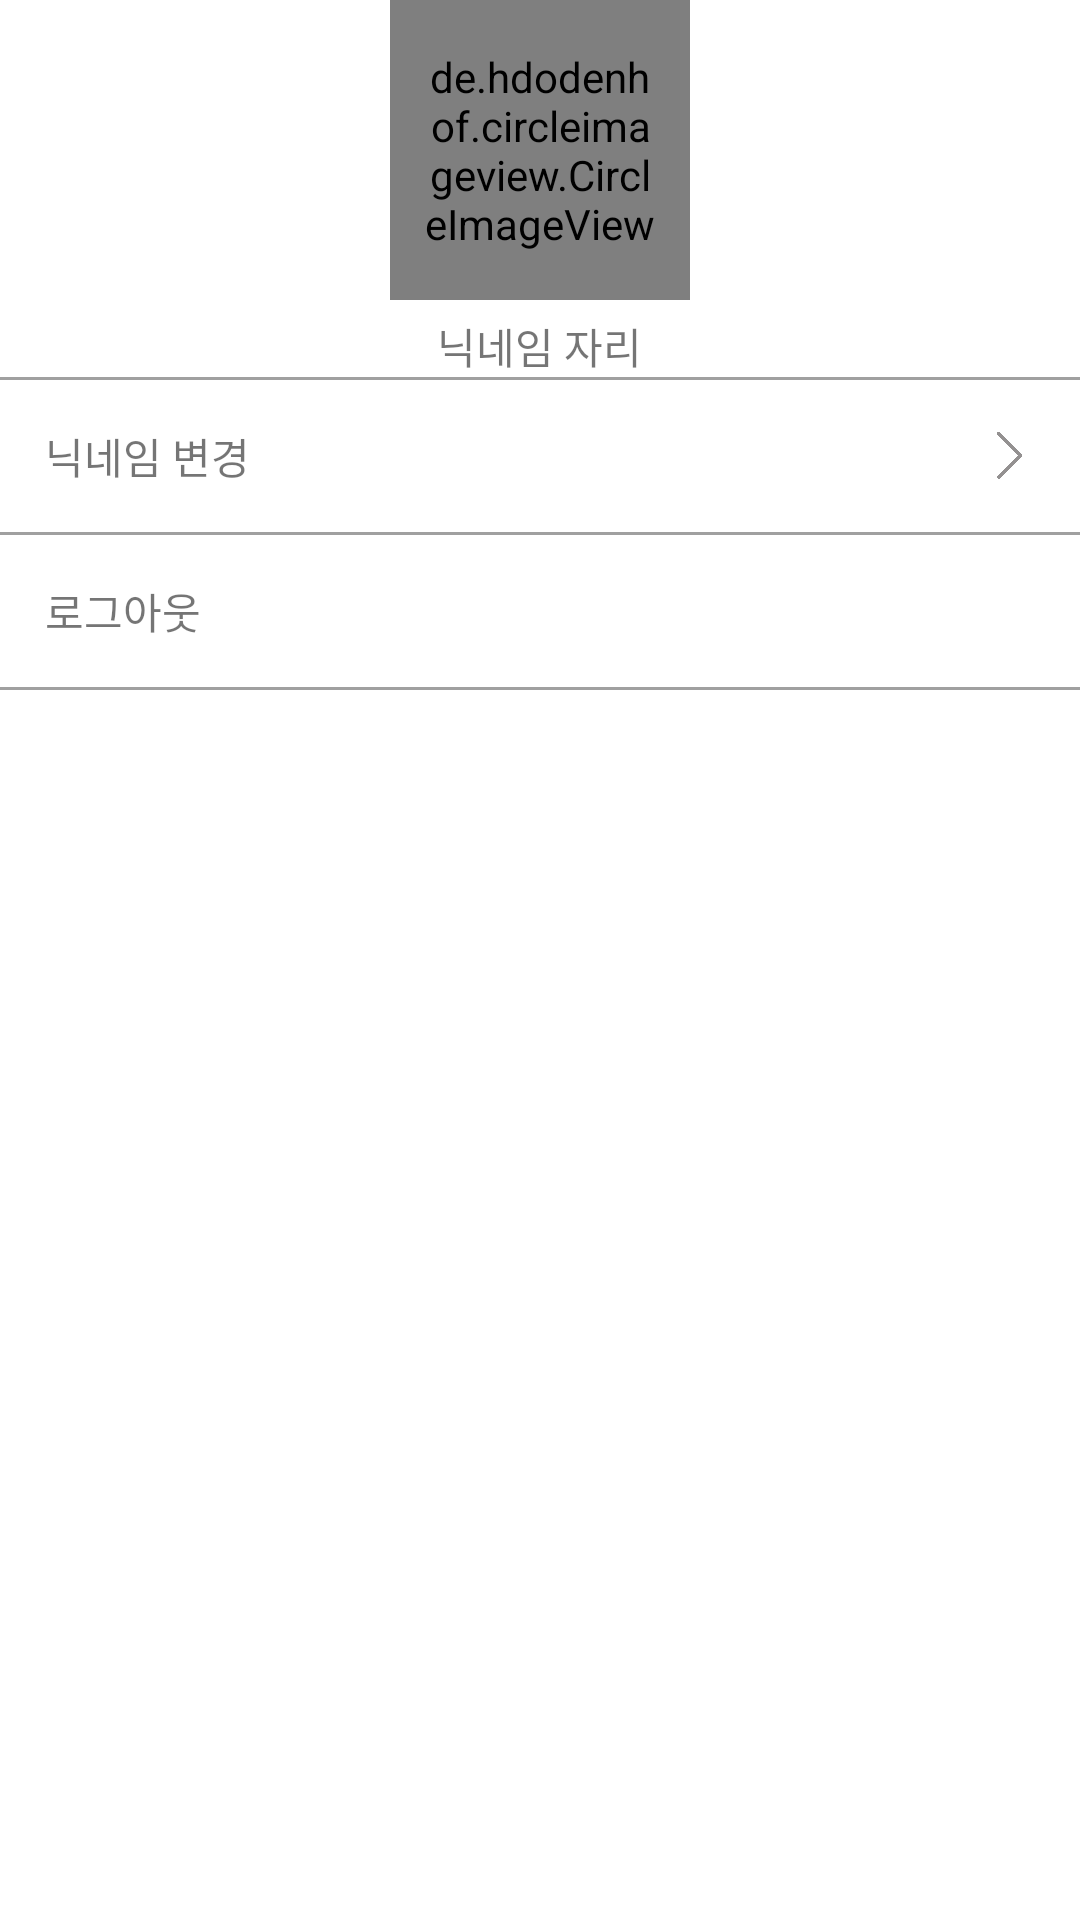

Icons on this 1080×1920 Android screen, each with the point to tap as [x,y]:
right arrow: [1009,455]
